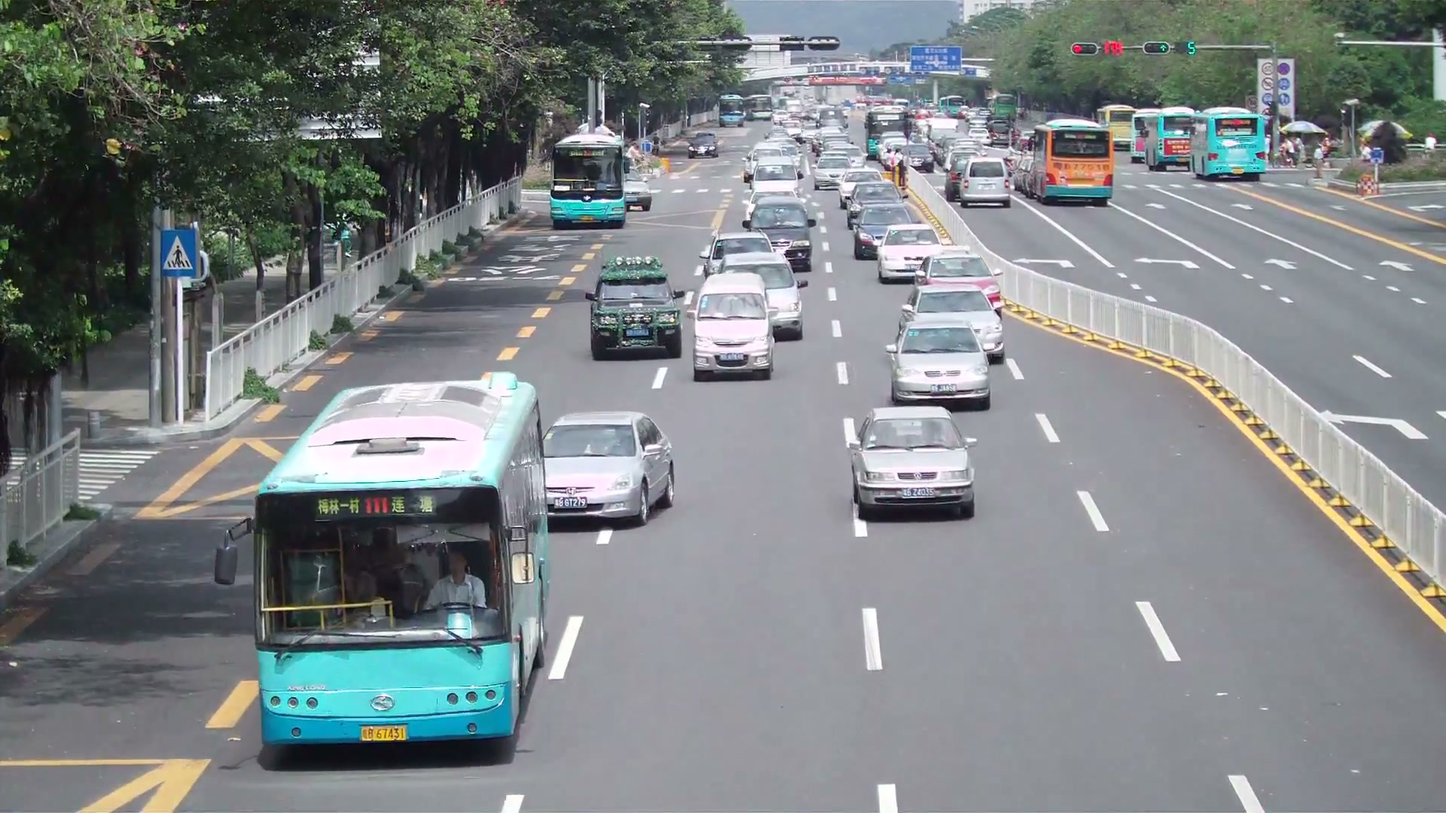bus: (212, 375, 551, 756), (549, 132, 628, 228), (1030, 116, 1115, 205), (1191, 107, 1268, 180), (1131, 107, 1199, 171), (1096, 105, 1136, 162)
car: (847, 404, 983, 522), (543, 410, 677, 528), (586, 251, 686, 361), (885, 316, 993, 411), (688, 272, 776, 381), (898, 286, 1006, 365), (721, 254, 805, 341), (746, 198, 818, 272), (875, 222, 950, 284), (850, 203, 919, 260), (958, 158, 1013, 210), (689, 132, 722, 157)
pedestrian: (420, 545, 488, 614), (1357, 138, 1383, 195)
